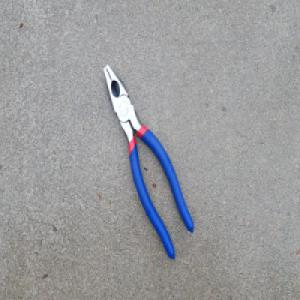Pliers: (101, 62, 195, 261)
